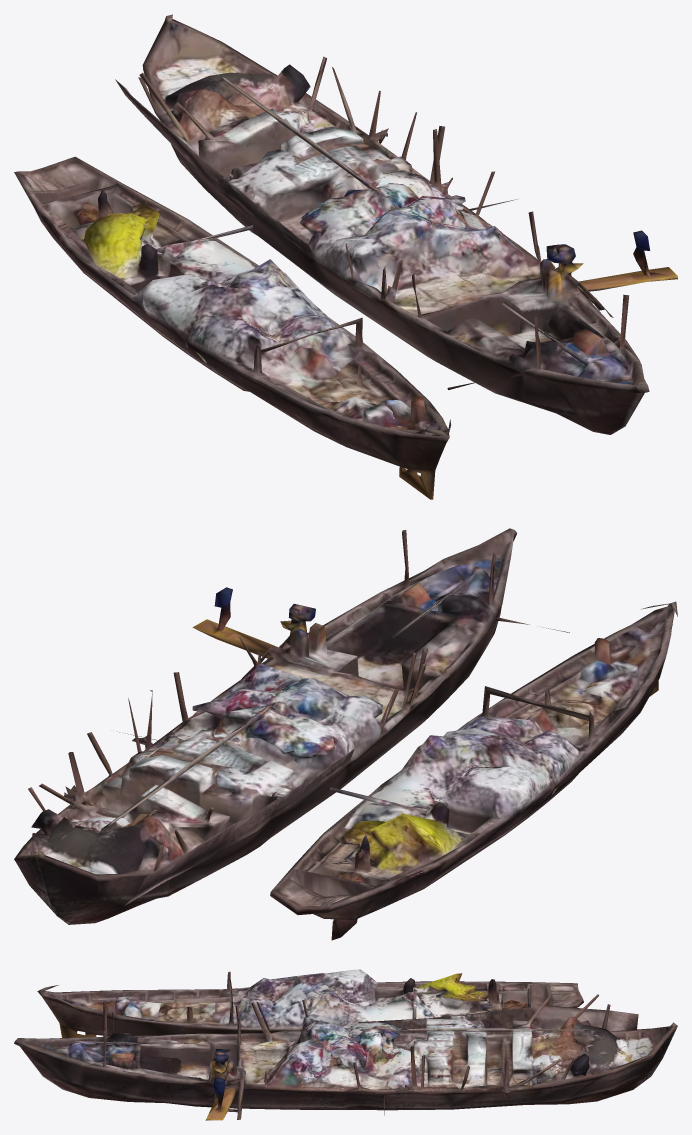
The model's file is pirogue-chargee.glb.
The picture shows the model from 3 angles, top to bottom: view 1: azimuth 30°, elevation 25°; view 2: azimuth 150°, elevation 25°; view 3: azimuth 270°, elevation 25°; orthographic projection. The views are drawn at different scales.
Parts seen in each view (by area): view 1: tripo_node_b294034c-ad94-46ca-9af2-94406230f500; view 2: tripo_node_b294034c-ad94-46ca-9af2-94406230f500; view 3: tripo_node_b294034c-ad94-46ca-9af2-94406230f500.
Boxes of the visible parts, box(x1,y1,x2,y2) form: tripo_node_b294034c-ad94-46ca-9af2-94406230f500: box(14, 14, 677, 499); tripo_node_b294034c-ad94-46ca-9af2-94406230f500: box(14, 528, 677, 940); tripo_node_b294034c-ad94-46ca-9af2-94406230f500: box(14, 969, 677, 1120).
Size of the model in its own units: 0.5201 by 0.1481 by 0.9995.
1 material, 1 textured.
